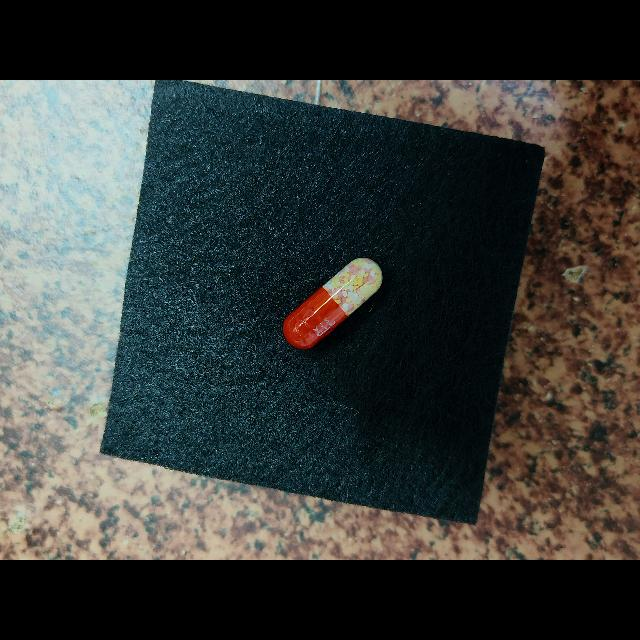Intact Capsule: (283, 258, 383, 349)
